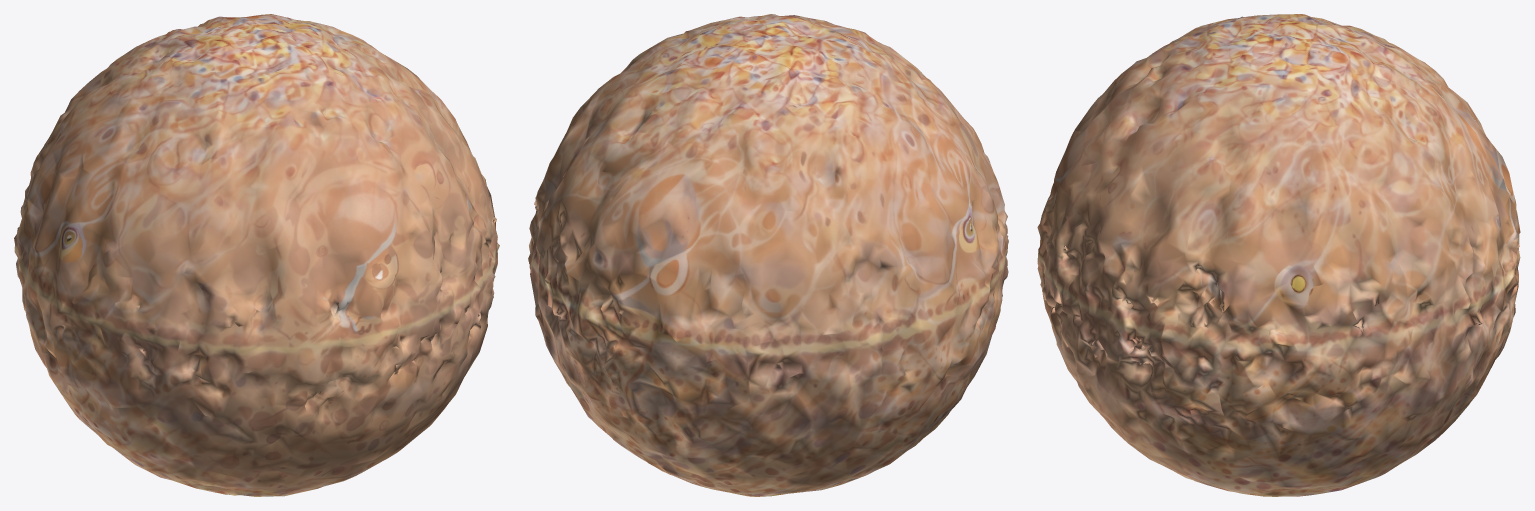
File: moon2.glb
The picture shows the model from 3 angles, left to right: view 1: azimuth 30°, elevation 25°; view 2: azimuth 150°, elevation 25°; view 3: azimuth 270°, elevation 25°; orthographic projection.
Parts seen in each view (by area): view 1: Mesh_0_Material_0_0; view 2: Mesh_0_Material_0_0; view 3: Mesh_0_Material_0_0.
Part boxes in pixels (<box>): Mesh_0_Material_0_0: <box>14,14,499,496</box>; Mesh_0_Material_0_0: <box>528,14,1008,496</box>; Mesh_0_Material_0_0: <box>1037,14,1520,496</box>.
Bounding box in the file's own units: 1.2 × 1.2 × 1.19.
1 material, 1 textured.
